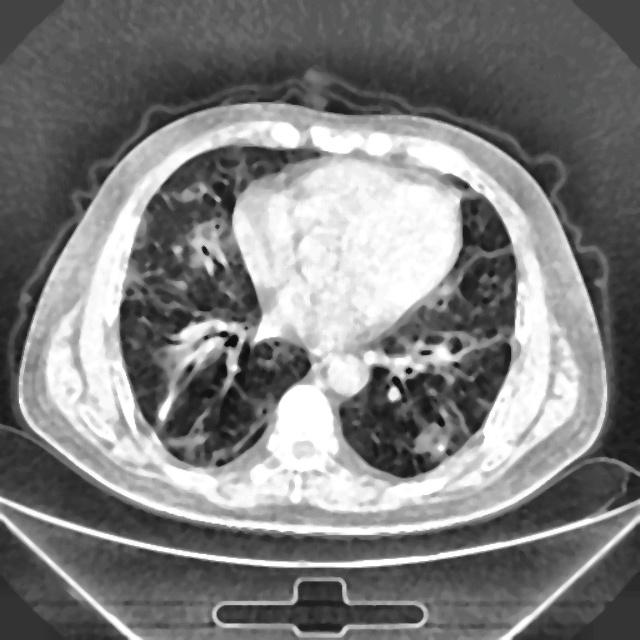covid: (16, 89, 610, 536)
